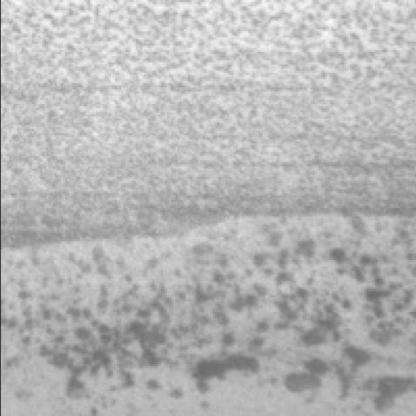pitted_surface: (2, 4, 416, 216), (45, 228, 416, 401)
